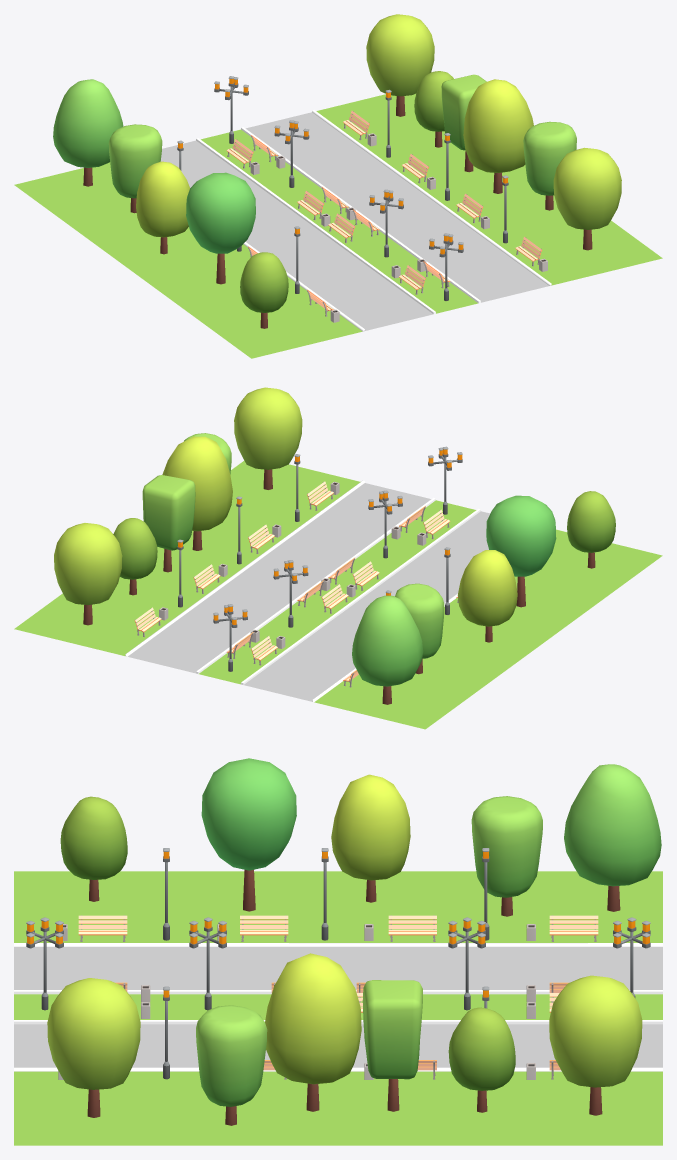
The model's file is Entertainment_Park_05.glb.
3 renders of one model, top to bottom at view 1: azimuth 30°, elevation 25°; view 2: azimuth 150°, elevation 25°; view 3: azimuth 270°, elevation 25°, orthographic. The views are drawn at different scales.
Parts seen in each view (by area): view 1: Entertainment_Park_05; view 2: Entertainment_Park_05; view 3: Entertainment_Park_05.
Part boxes in pixels (box(x1,y1,x2,y2)): Entertainment_Park_05: box(14, 14, 662, 358); Entertainment_Park_05: box(14, 387, 662, 729); Entertainment_Park_05: box(14, 758, 662, 1145).
Size of the model in its own units: 30 by 7.89 by 30.
Materials: 2 (2 with a texture image).
